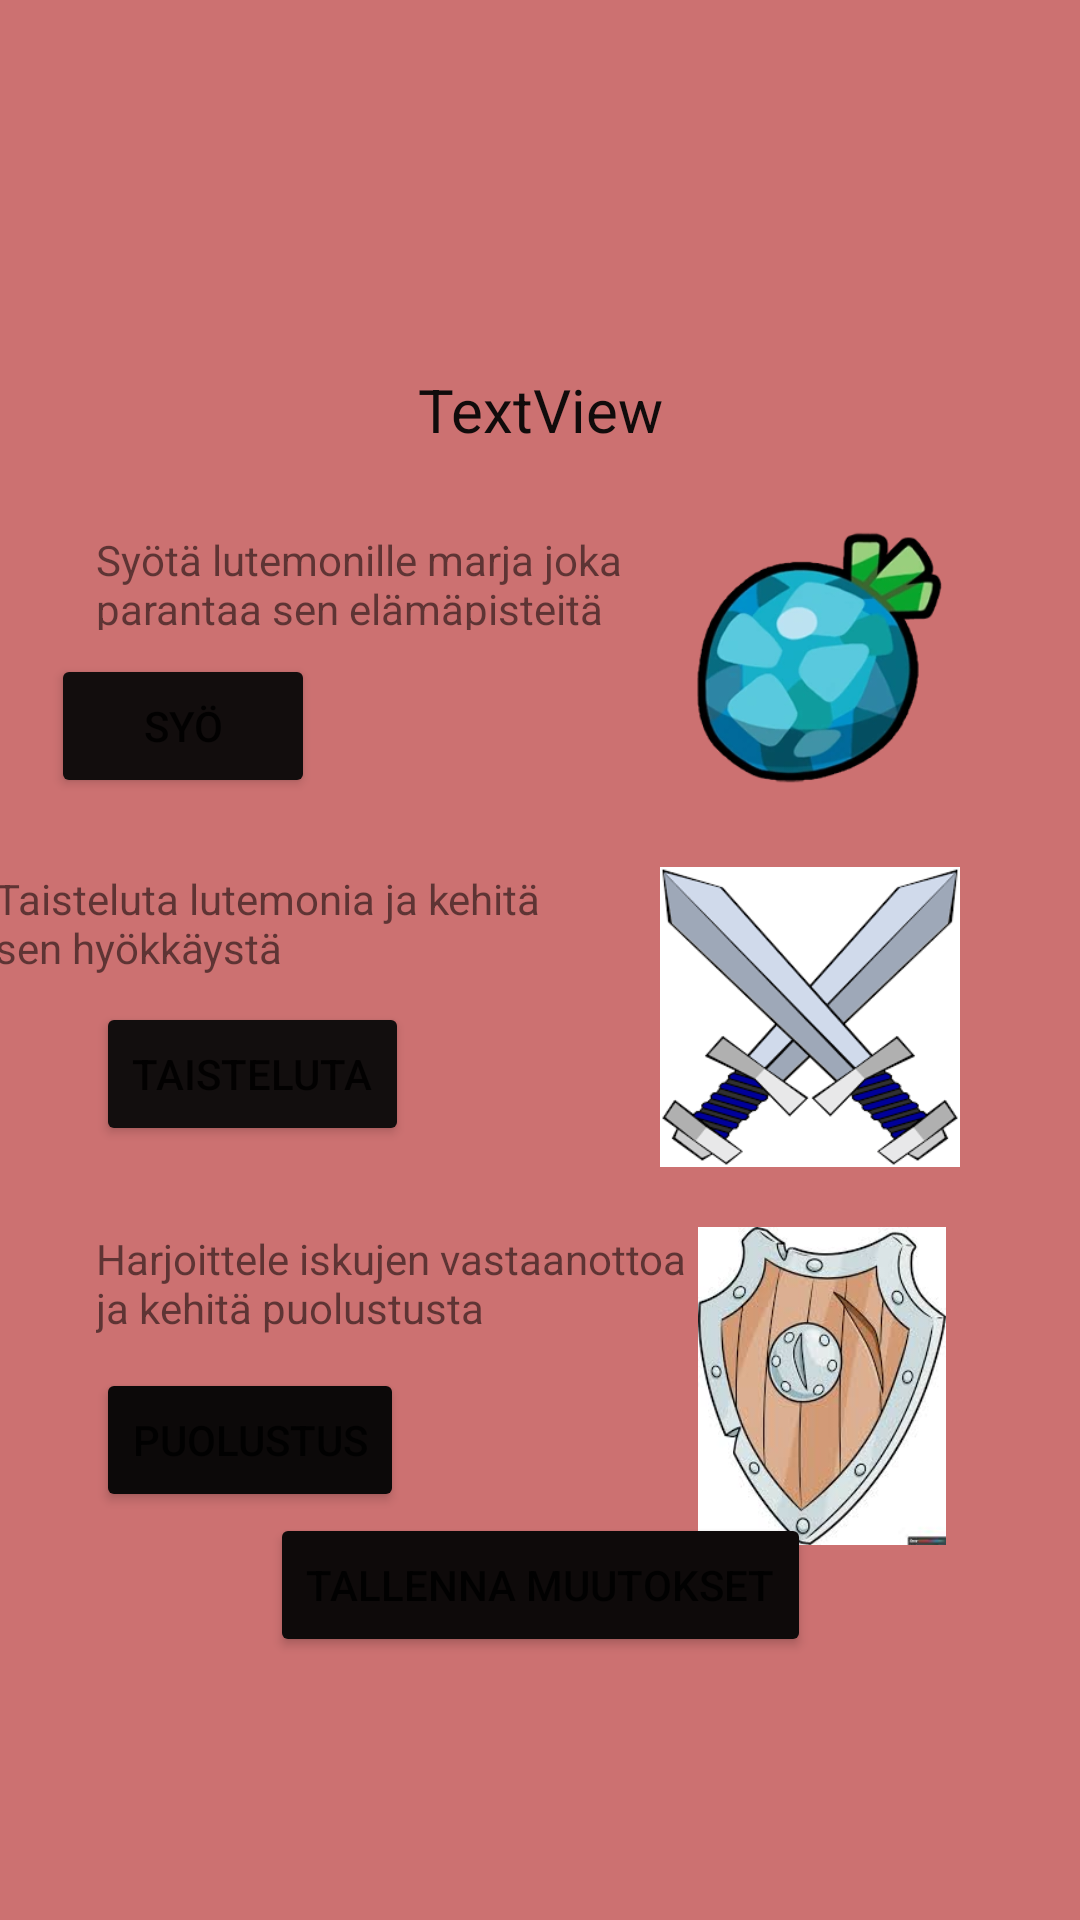

Screen size 1080 x 1920. Icon name, then its box in pixels as (x1=x1, y1=y1, x2=x2, y2=y2):
curry yache berry sprite: (x1=697, y1=533, x2=942, y2=783)
